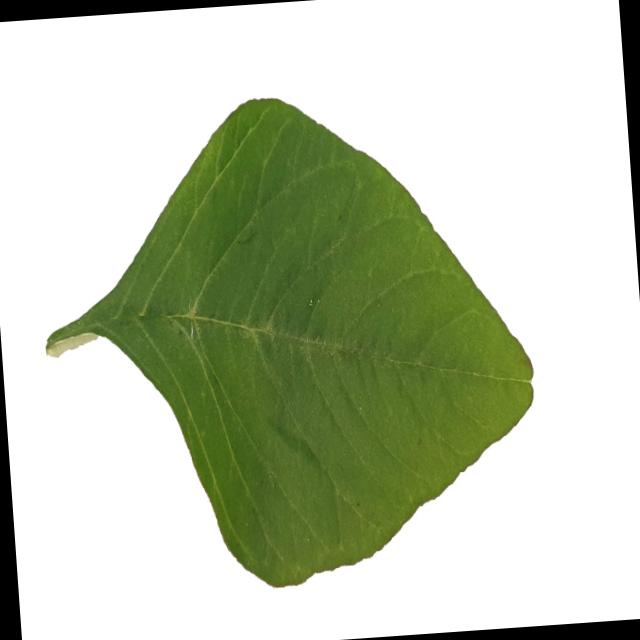Medicinal-Arive Dantu: (31, 72, 548, 610)
